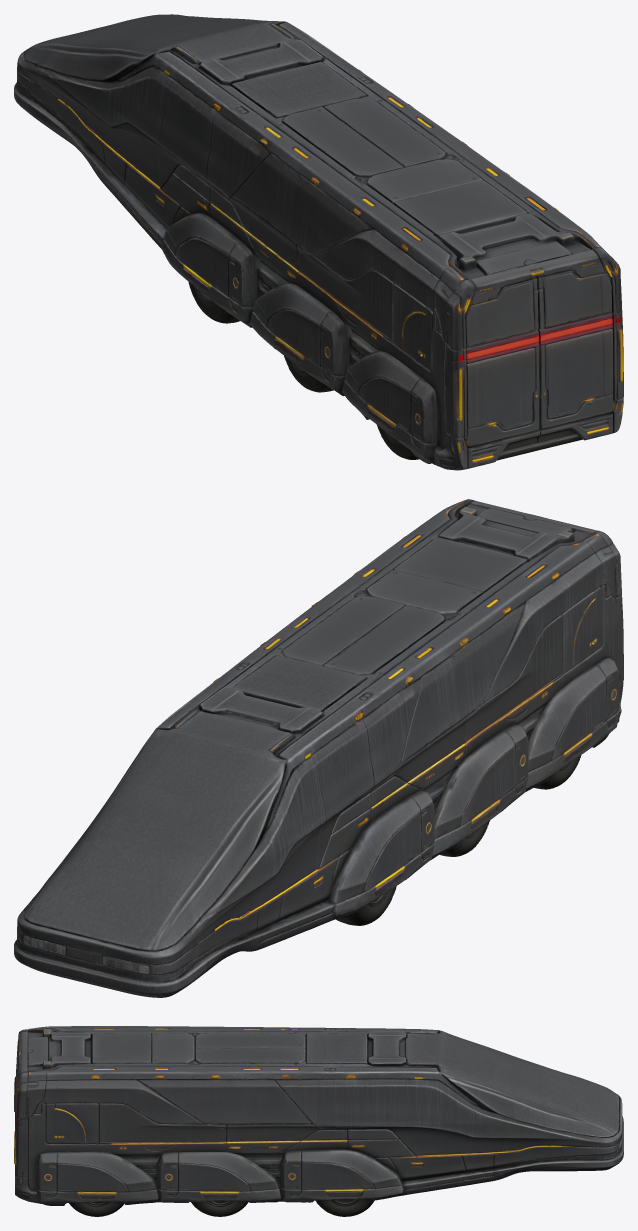
Rendered from truck.glb.
The picture shows the model from 3 angles, top to bottom: view 1: azimuth 30°, elevation 25°; view 2: azimuth 150°, elevation 25°; view 3: azimuth 270°, elevation 25°; orthographic projection. The views are drawn at different scales.
Visible parts, largest first — view 1: tripo_node_73a6be0b-9609-4479-9db5-f882db7c2f55; view 2: tripo_node_73a6be0b-9609-4479-9db5-f882db7c2f55; view 3: tripo_node_73a6be0b-9609-4479-9db5-f882db7c2f55.
Boxes of the visible parts, x1,y1,x2,y2 form: tripo_node_73a6be0b-9609-4479-9db5-f882db7c2f55: (14,14,623,470); tripo_node_73a6be0b-9609-4479-9db5-f882db7c2f55: (14,499,623,997); tripo_node_73a6be0b-9609-4479-9db5-f882db7c2f55: (14,1026,623,1216).
Bounding box in the file's own units: 0.2456 × 0.2587 × 0.9805.
1 material, 1 textured.
